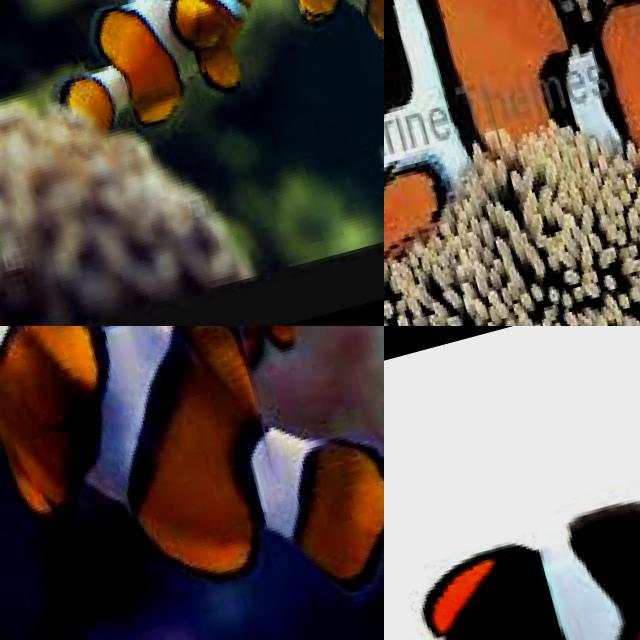Amphiprion-percula: (0, 326, 384, 640), (384, 0, 640, 326), (1, 0, 301, 206), (384, 422, 640, 640), (137, 326, 384, 474), (219, 0, 384, 183)
